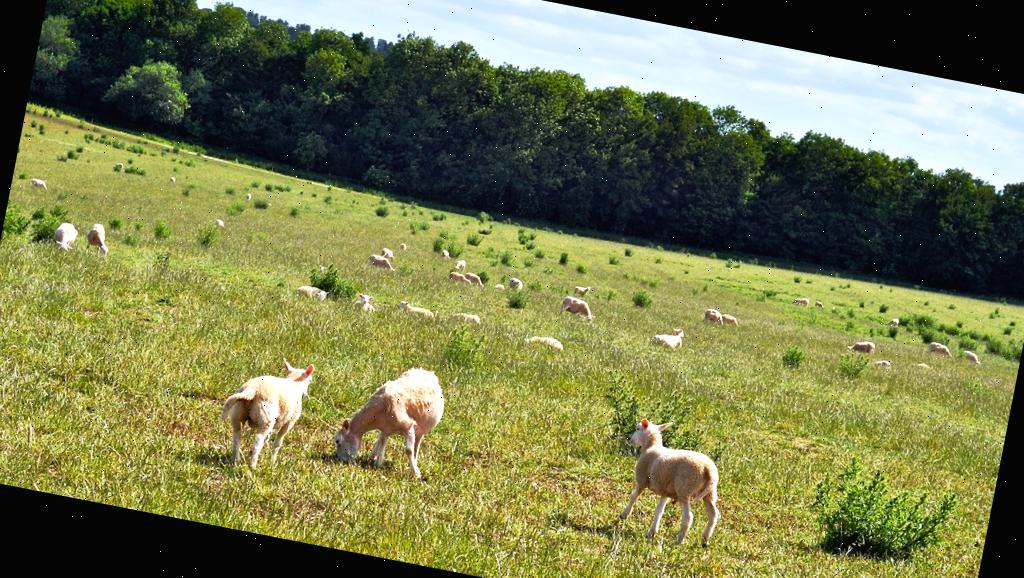Sheep: (329, 354, 450, 484), (617, 419, 732, 552), (208, 346, 312, 479), (54, 222, 84, 255), (84, 224, 114, 257), (522, 332, 564, 354), (558, 294, 592, 321), (653, 327, 684, 353), (397, 304, 434, 322), (298, 286, 330, 304), (355, 294, 378, 316), (366, 253, 392, 272), (452, 312, 480, 325), (466, 272, 488, 288), (928, 342, 952, 356), (706, 310, 726, 325), (850, 341, 872, 353), (450, 273, 470, 286), (572, 286, 592, 298), (963, 353, 983, 363), (722, 314, 739, 325), (508, 278, 522, 290), (440, 252, 454, 262), (492, 282, 504, 292), (34, 181, 48, 189), (380, 249, 395, 256), (455, 262, 466, 270), (878, 362, 891, 368)
